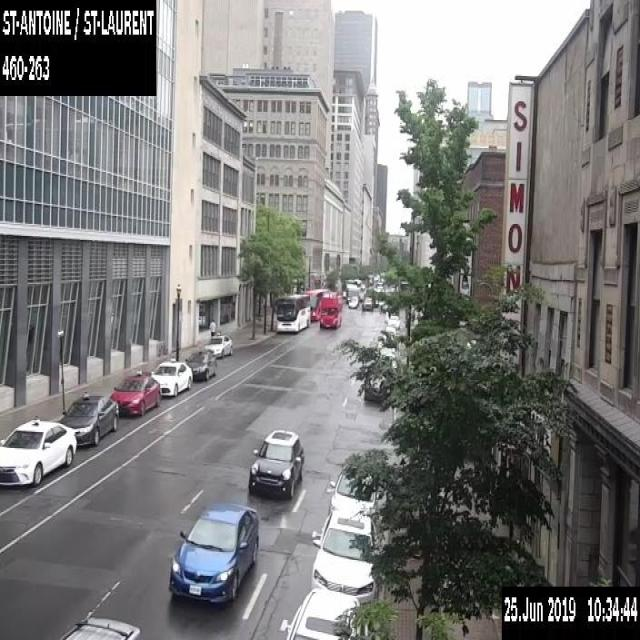bus: (275, 293, 310, 332), (318, 290, 342, 329), (303, 287, 330, 320), (345, 281, 358, 303)
pedestrian: (208, 319, 217, 337)
vehicle: (167, 500, 259, 604), (310, 509, 384, 601), (0, 416, 76, 486), (246, 425, 306, 500), (286, 586, 368, 638), (60, 390, 118, 446), (327, 467, 387, 521), (109, 370, 159, 416), (60, 614, 142, 638), (150, 356, 192, 396), (184, 349, 217, 380), (204, 332, 232, 357), (364, 375, 391, 400), (377, 340, 395, 358), (383, 352, 397, 368), (387, 314, 400, 329), (384, 326, 396, 341), (361, 296, 372, 310), (348, 296, 358, 306), (359, 292, 363, 300)
